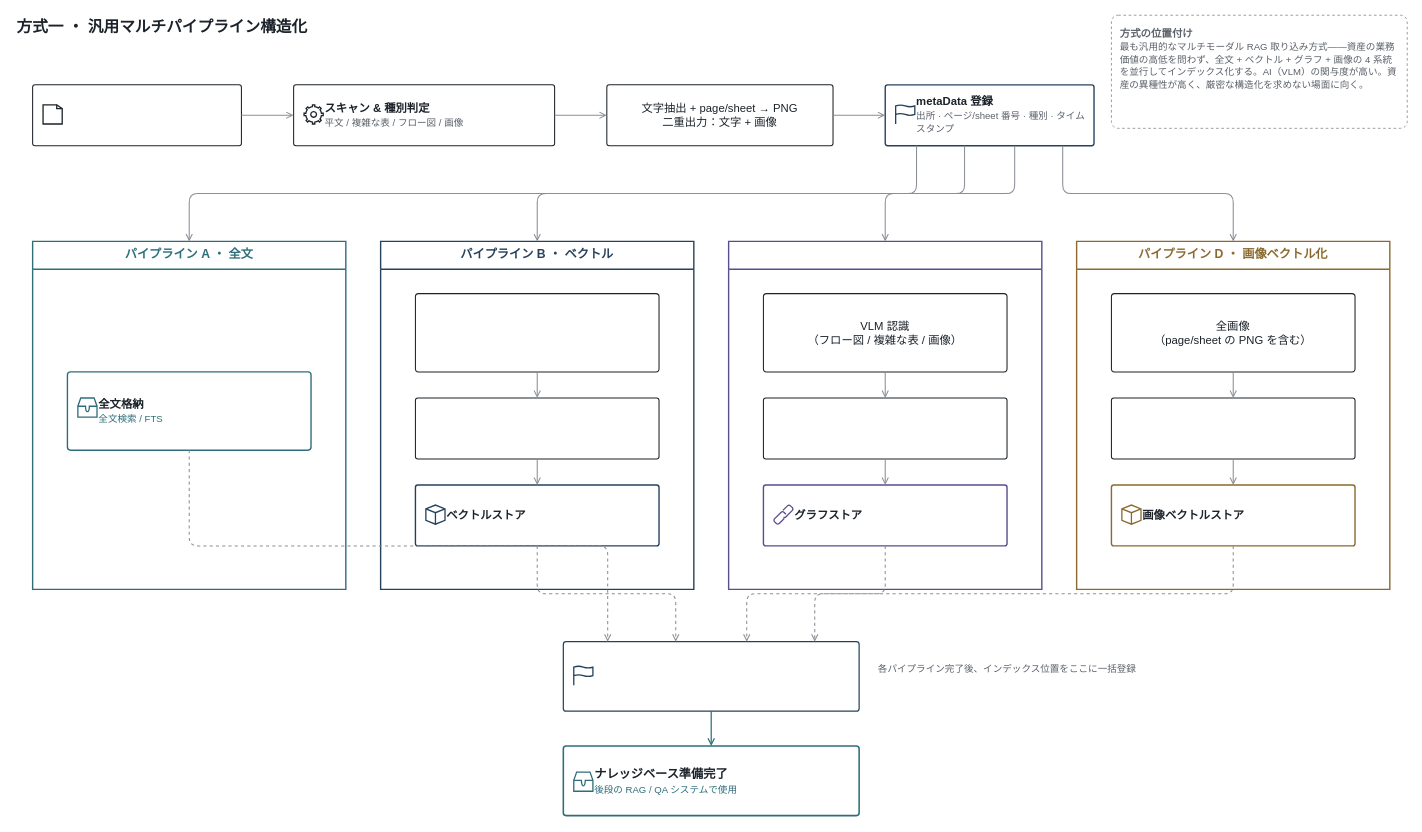
This 1422x832 diagram has some shape labels left out. Each missing label, with the box of its shape:
Embedding ベクトル化: (414, 397, 659, 459)
パイプライン C ・ VLM 認識: (727, 240, 1042, 590)
元資産 Office 文書 / PDF / 画像 / スキャンデータ: (32, 84, 242, 146)
文字化 → graph 化: (762, 397, 1007, 459)
画像ベクトル化 Image Embedding: (1110, 397, 1355, 459)
親 block → 子 block → chunk 分割: (414, 293, 659, 372)
資産台帳 metaData 登録表: (562, 641, 859, 711)
